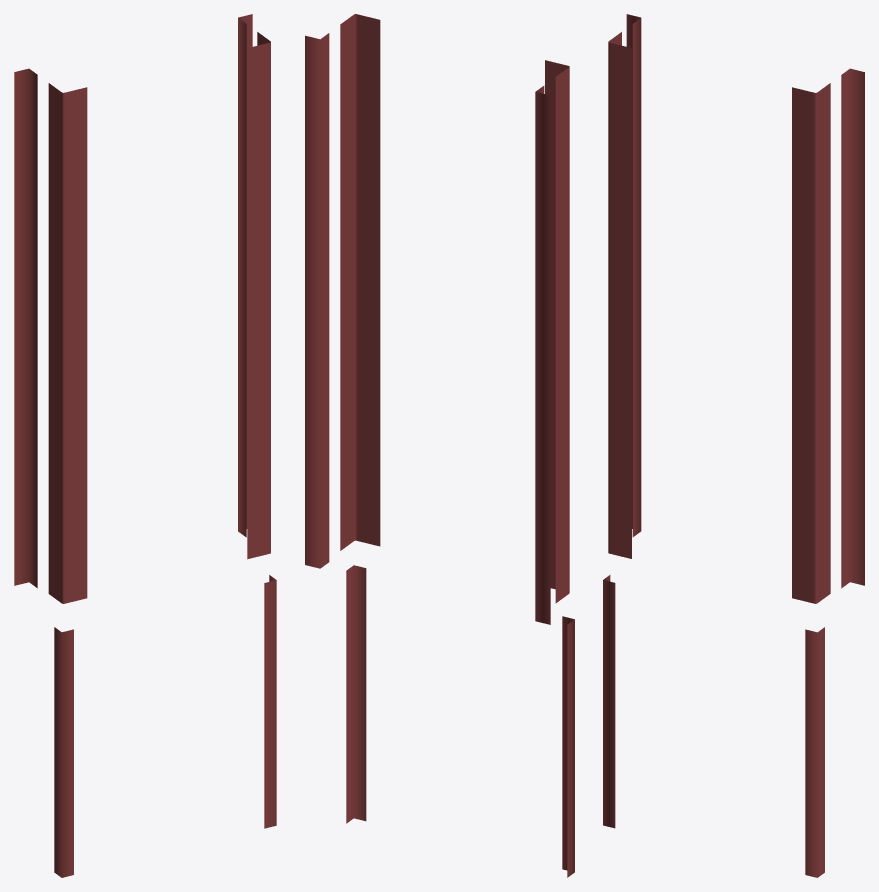
File: Decal_wallIn_A_columnhalf_medium.FBX
3 views of the same model, side by side, from view 1: azimuth 30°, elevation 25°; view 2: azimuth 150°, elevation 25°; view 3: azimuth 330°, elevation 25° (orthographic). The views are drawn at different scales.
Parts seen in each view (by area): view 1: Decal_wallIn_A_columnhalf_medium; view 2: Decal_wallIn_A_columnhalf_medium; view 3: Decal_wallIn_A_columnhalf_medium.
Part boxes in pixels (x1,y1,x2,y2): Decal_wallIn_A_columnhalf_medium: [14, 14, 276, 877]; Decal_wallIn_A_columnhalf_medium: [305, 14, 574, 877]; Decal_wallIn_A_columnhalf_medium: [603, 14, 864, 877].
Size of the model in its own units: 80.55 by 253 by 20.86.
